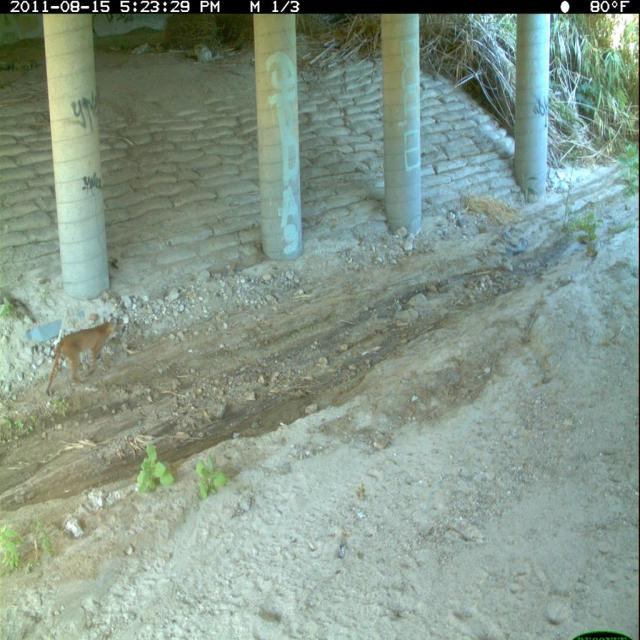bobcat: (42, 312, 124, 402)
